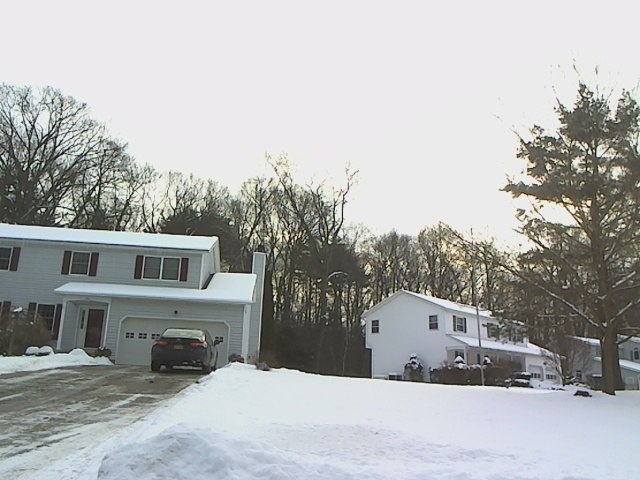Ploughed: (1, 368, 195, 419)
